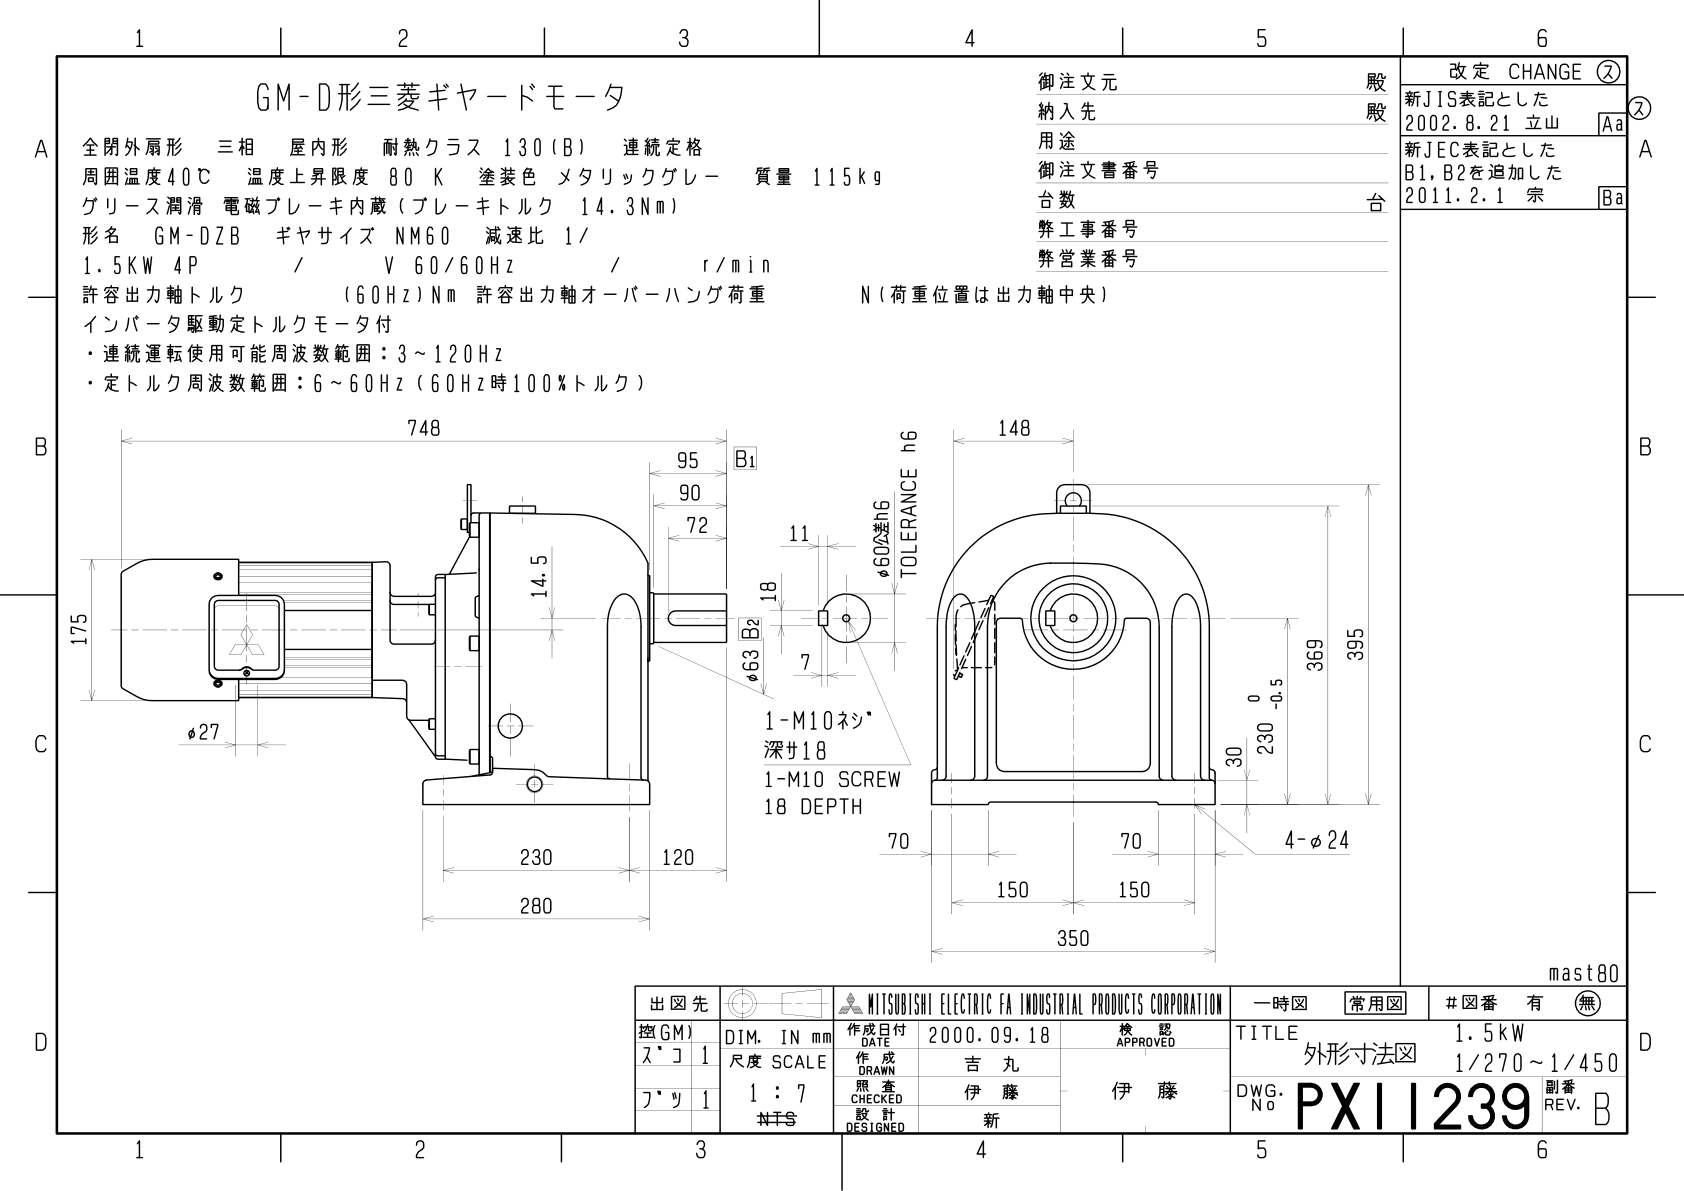GM_D_インバータ屋内_三相_脚: (64, 410, 1392, 969)
